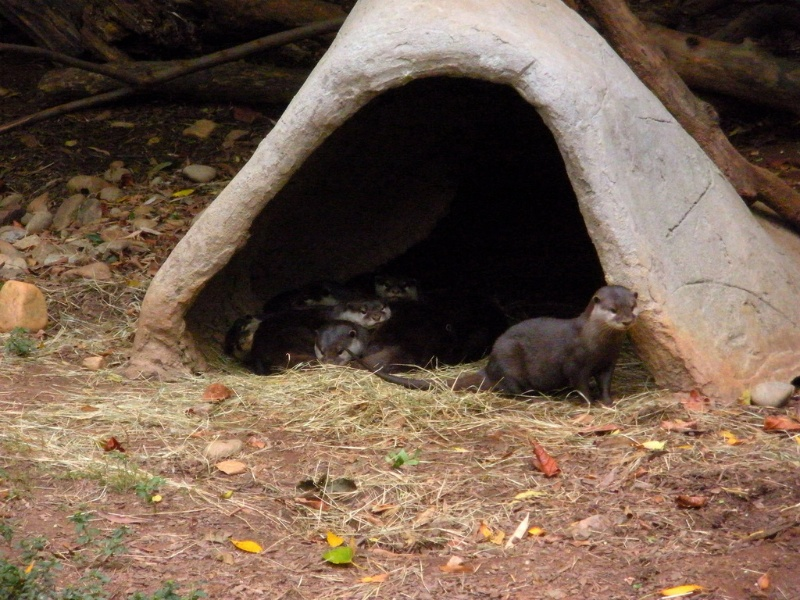minkish: (458, 282, 641, 413), (314, 323, 414, 377), (219, 312, 275, 351), (373, 273, 432, 301), (333, 298, 388, 328)
